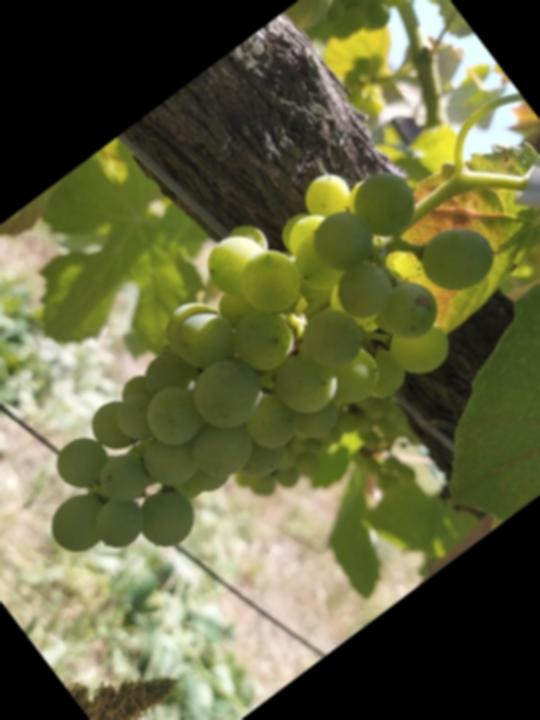grape: (0, 108, 531, 615)
